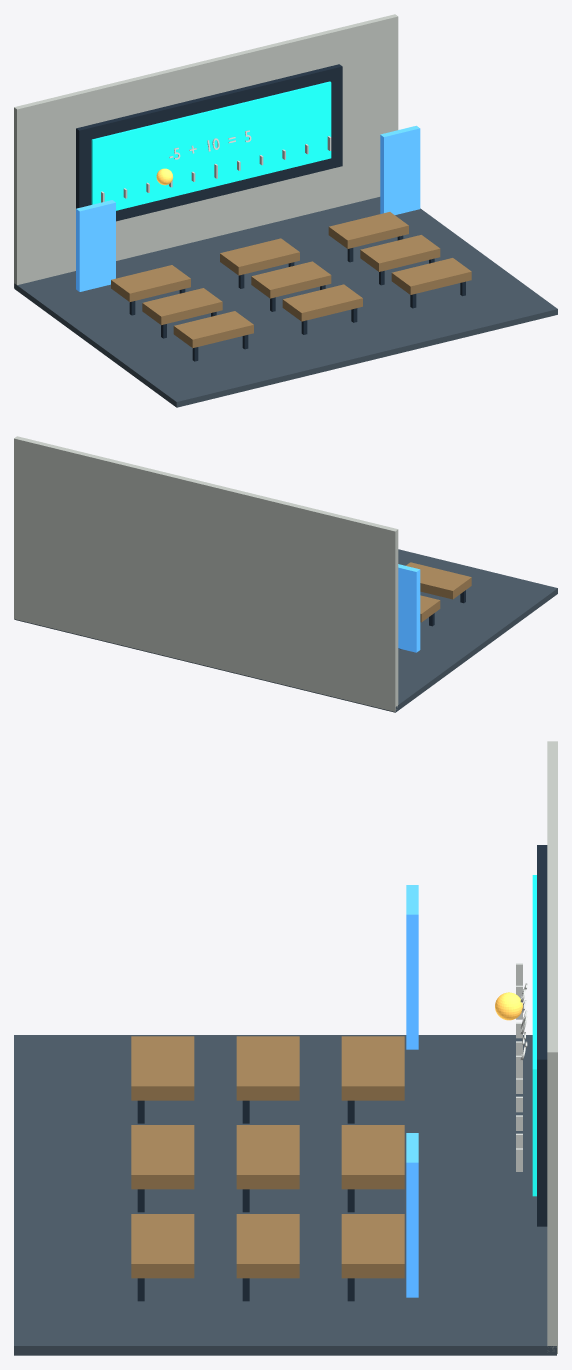
Rendered from grade8-math-classroom.glb.
3 renders of one model, top to bottom at view 1: azimuth 30°, elevation 25°; view 2: azimuth 150°, elevation 25°; view 3: azimuth 270°, elevation 25°, orthographic. The views are drawn at different scales.
Visible parts, largest first — view 1: Classroom floor platform, Classroom back wall, Glowing board panel, Interactive number line board, Tall learning display.001, Tall learning display, Student collaboration desk.003, Student collaboration desk.005, Student collaboration desk.008, Student collaboration desk.001, Student collaboration desk.004, Student collaboration desk (+3 smaller); view 2: Classroom back wall, Classroom floor platform, Tall learning display, Student collaboration desk, Student collaboration desk.003; view 3: Classroom floor platform, Classroom back wall, Interactive number line board, Student collaboration desk, Student collaboration desk.003, Student collaboration desk.006, Student collaboration desk.001, Student collaboration desk.002, Student collaboration desk.004, Student collaboration desk.005, Student collaboration desk.007, Student collaboration desk.008 (+3 smaller).
Boxes of the visible parts, bbox=[...] form: Classroom floor platform: bbox=[14, 197, 557, 407]; Classroom back wall: bbox=[14, 14, 398, 287]; Glowing board panel: bbox=[91, 81, 331, 210]; Interactive number line board: bbox=[76, 64, 342, 221]; Tall learning display.001: bbox=[380, 125, 420, 214]; Tall learning display: bbox=[76, 200, 115, 291]; Student collaboration desk.003: bbox=[142, 288, 222, 325]; Student collaboration desk.005: bbox=[360, 235, 440, 271]; Student collaboration desk.008: bbox=[328, 212, 408, 248]; Student collaboration desk.001: bbox=[282, 284, 362, 321]; Student collaboration desk.004: bbox=[251, 261, 331, 298]; Student collaboration desk: bbox=[173, 311, 253, 347]; Classroom back wall: bbox=[14, 436, 398, 711]; Classroom floor platform: bbox=[14, 549, 557, 712]; Tall learning display: bbox=[398, 564, 420, 652]; Student collaboration desk: bbox=[406, 562, 471, 599]; Student collaboration desk.003: bbox=[420, 595, 440, 622]; Classroom floor platform: bbox=[14, 1035, 556, 1355]; Classroom back wall: bbox=[547, 741, 557, 1353]; Interactive number line board: bbox=[537, 845, 547, 1226]; Student collaboration desk: bbox=[131, 1036, 194, 1100]; Student collaboration desk.003: bbox=[236, 1036, 299, 1100]; Student collaboration desk.006: bbox=[341, 1036, 404, 1100]; Student collaboration desk.001: bbox=[131, 1125, 194, 1189]; Student collaboration desk.002: bbox=[131, 1214, 194, 1278]; Student collaboration desk.004: bbox=[236, 1125, 299, 1189]; Student collaboration desk.005: bbox=[236, 1214, 299, 1278]; Student collaboration desk.007: bbox=[341, 1125, 404, 1189]; Student collaboration desk.008: bbox=[341, 1214, 404, 1278].
Size of the model in its own units: 8.4 by 3.82 by 6.21.
